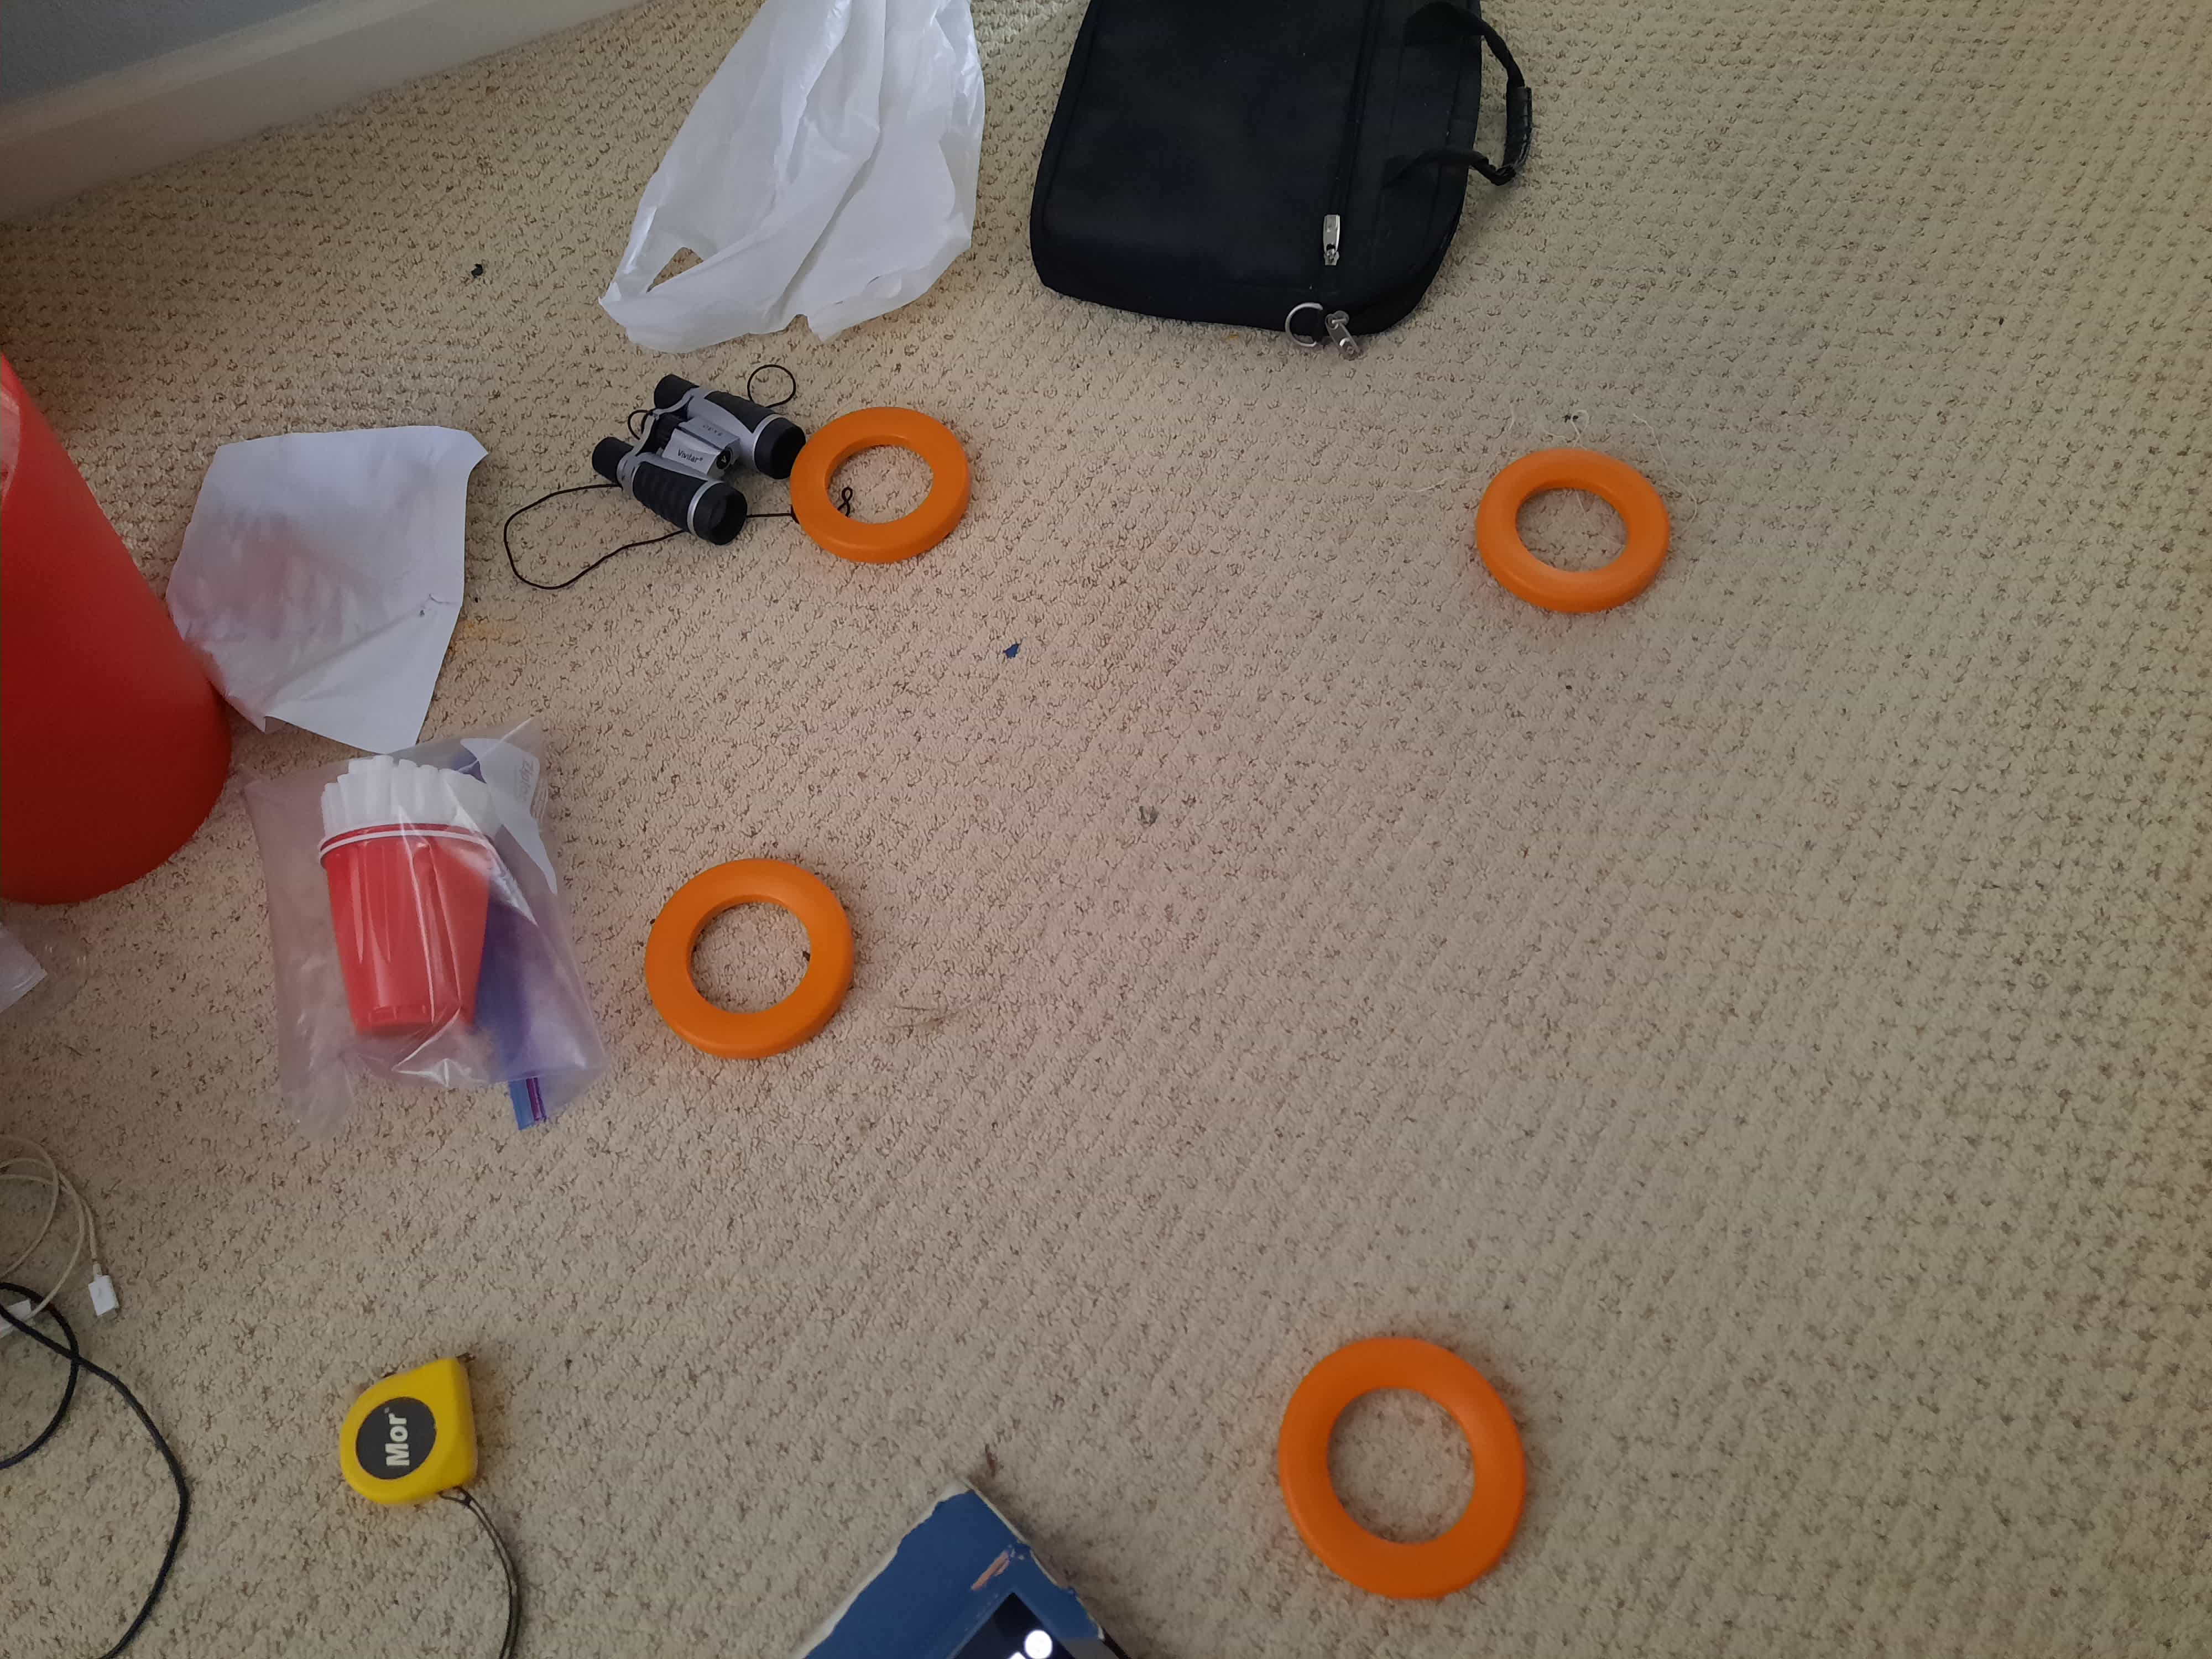OneStack: (1284, 1333, 1526, 1591), (650, 863, 846, 1053), (1484, 451, 1670, 610), (794, 408, 961, 558)
